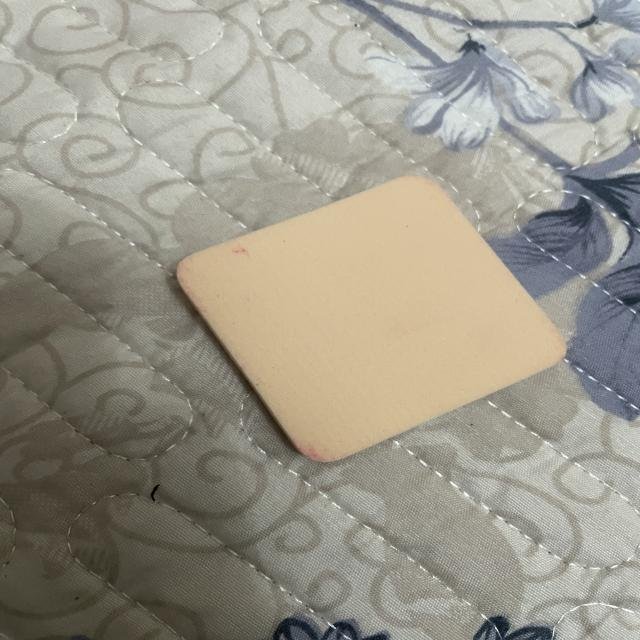beauty blender: (155, 162, 582, 472)
